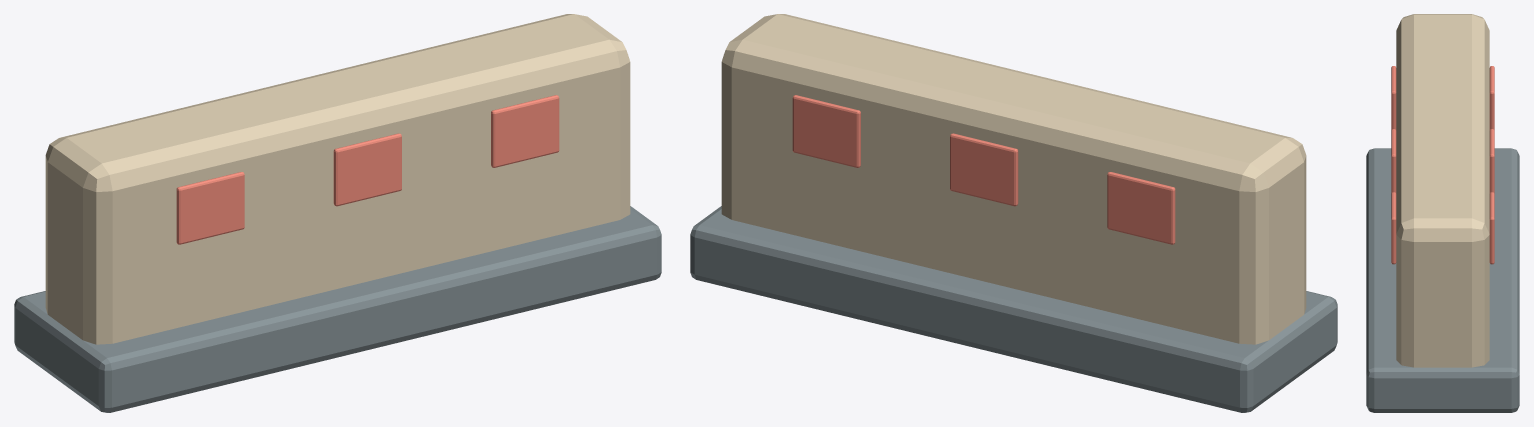
Rendered from Barrier.fbx.
3 renders of one model, left to right at view 1: azimuth 30°, elevation 25°; view 2: azimuth 150°, elevation 25°; view 3: azimuth 270°, elevation 25°, orthographic. The views are drawn at different scales.
Visible parts, largest first — view 1: Barrier; view 2: Barrier; view 3: Barrier.
Part boxes in pixels (x1=…): Barrier: x1=14, y1=14, x2=661, y2=412; Barrier: x1=690, y1=14, x2=1337, y2=412; Barrier: x1=1366, y1=14, x2=1519, y2=412.
Size of the model in its own units: 268 by 104 by 77.
